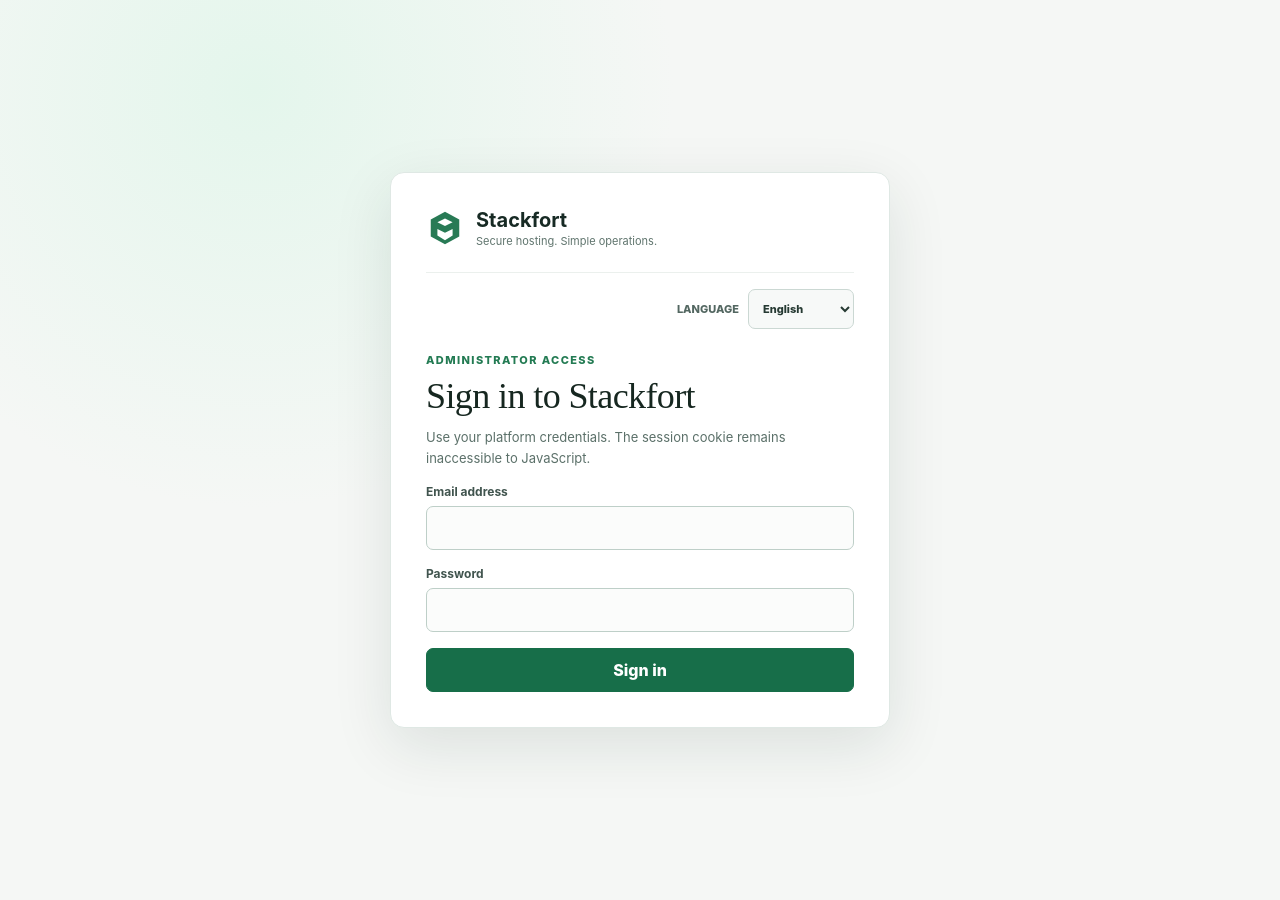
Scenario: administrator entry flows › continues a password login through MFA into the administrator shell
Expected: the heading "Sign in to Stackfort" is shown, [426,376,695,416]
Type "admin@example.test" into the field labelled "Email address" at (640, 528), box [426,506,854,550]
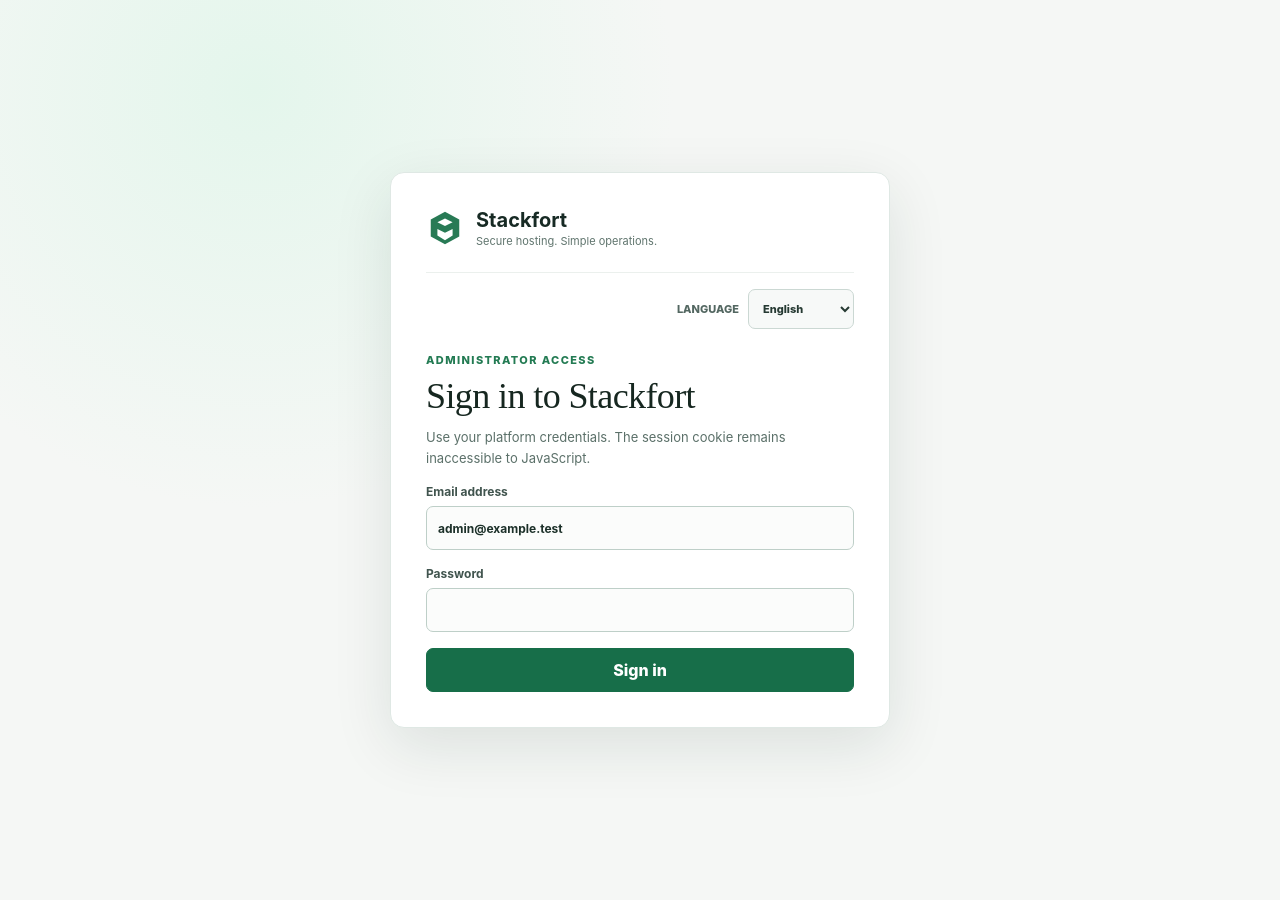
Type "long-enough-password" into the password field labelled "Password" at (640, 610), box [426,588,854,632]
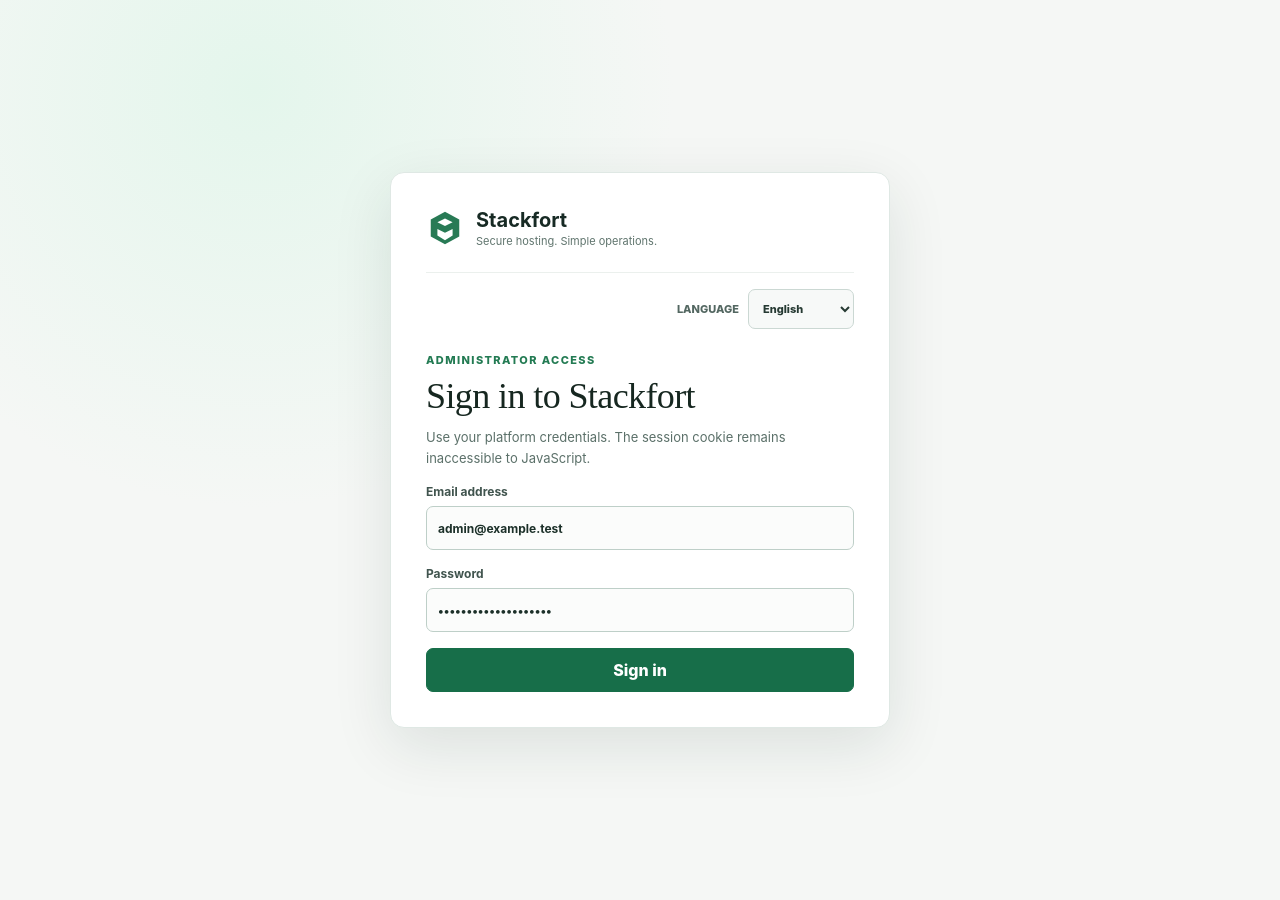
Submit the form, box [426,353,854,692]
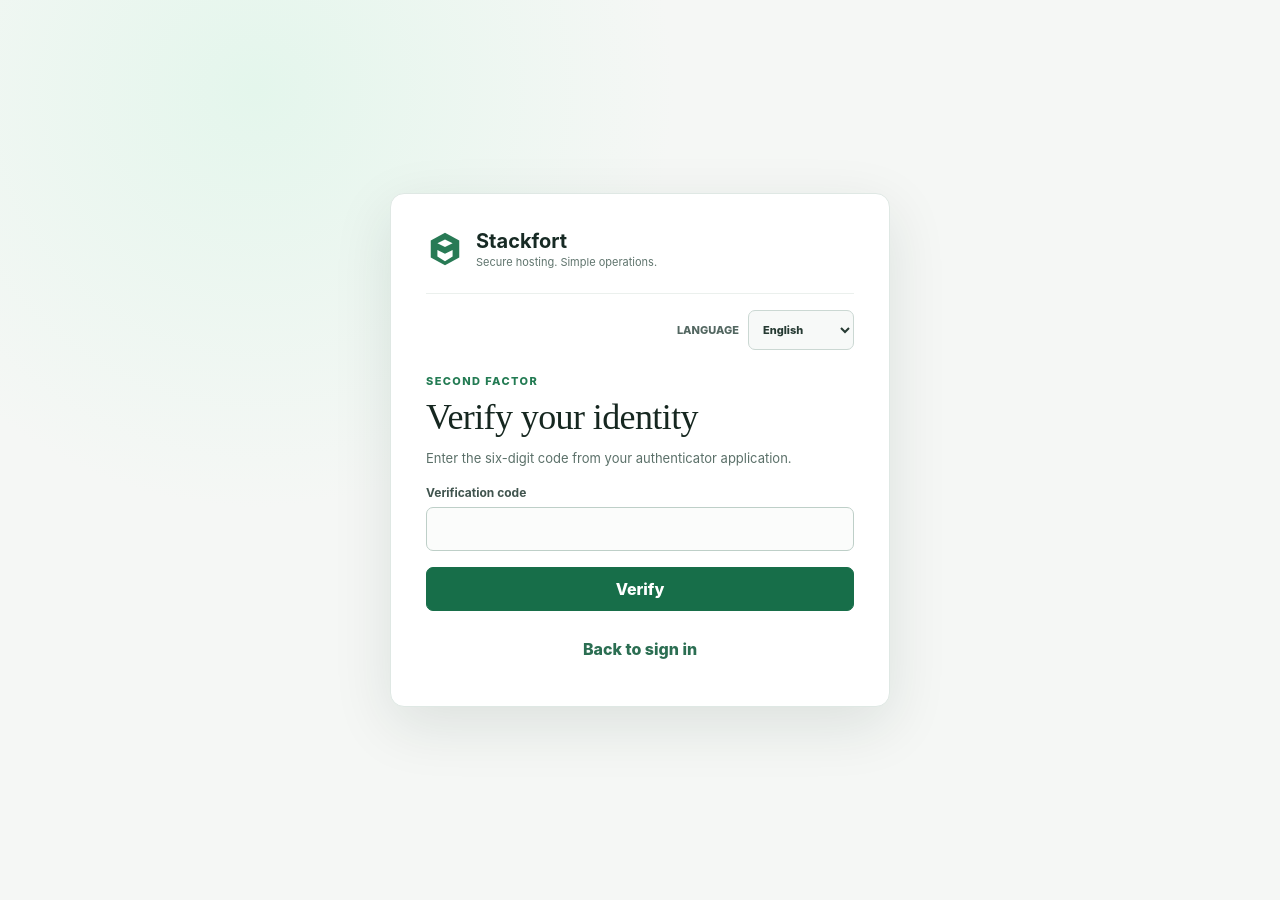
Now the heading "Verify your identity" is shown, box [426,397,698,437]
Type "123456" into the field labelled "Verification code" at (640, 529), box [426,507,854,551]
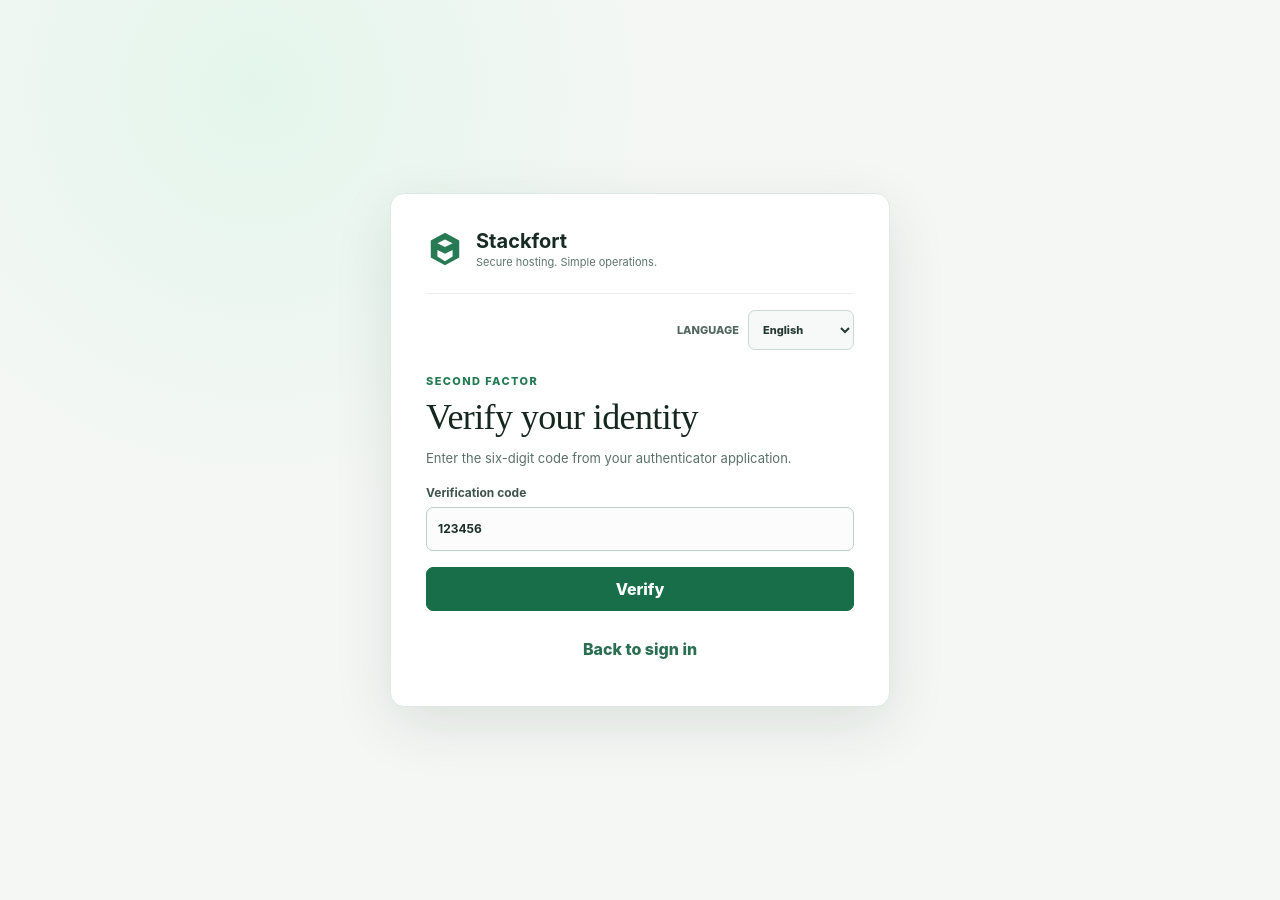
Submit the form, box [426,374,854,671]
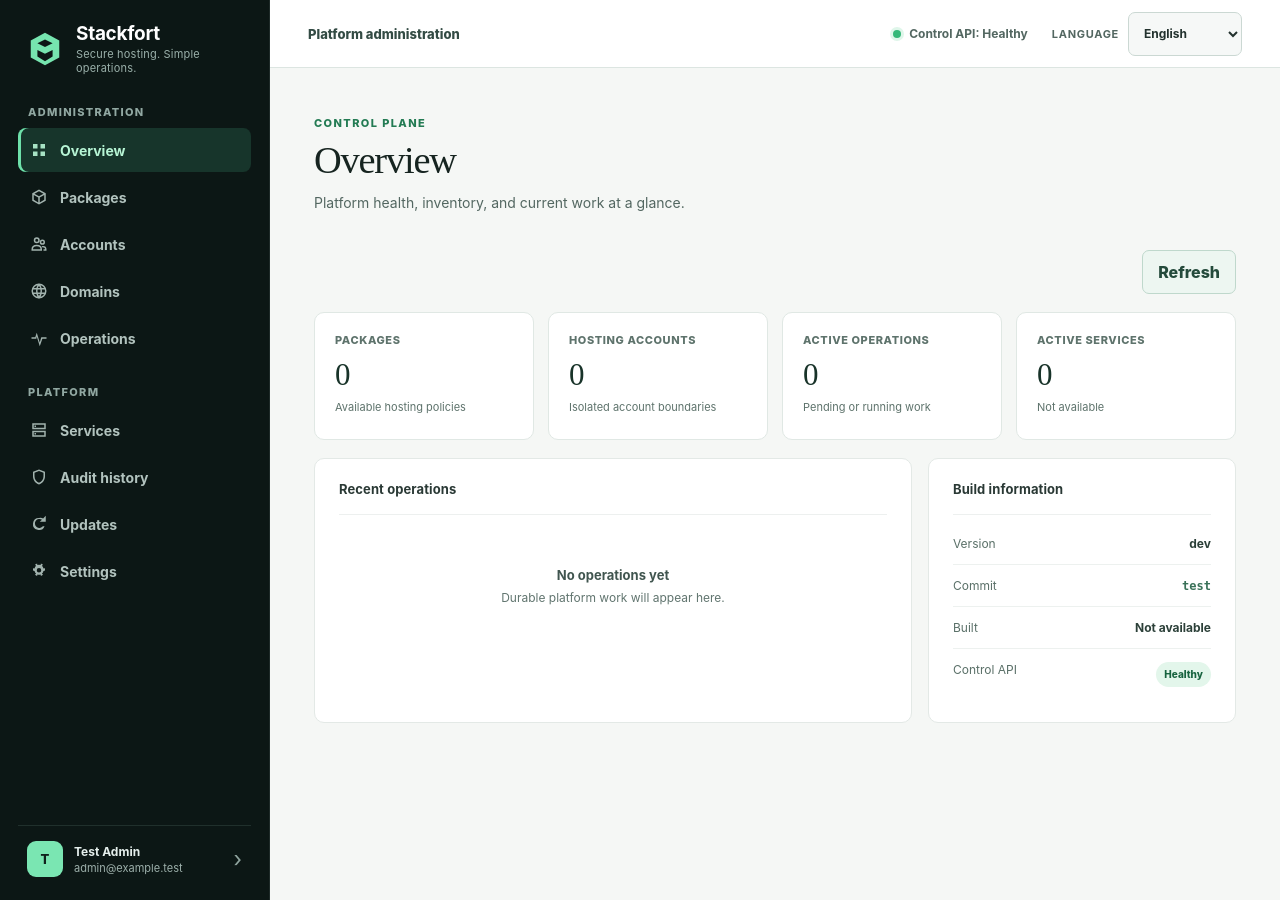
Now the heading "Overview" is shown, box [314,138,456,182]
Now the button with class "identity-summary" shows "Test Admin", box [18,825,251,882]
